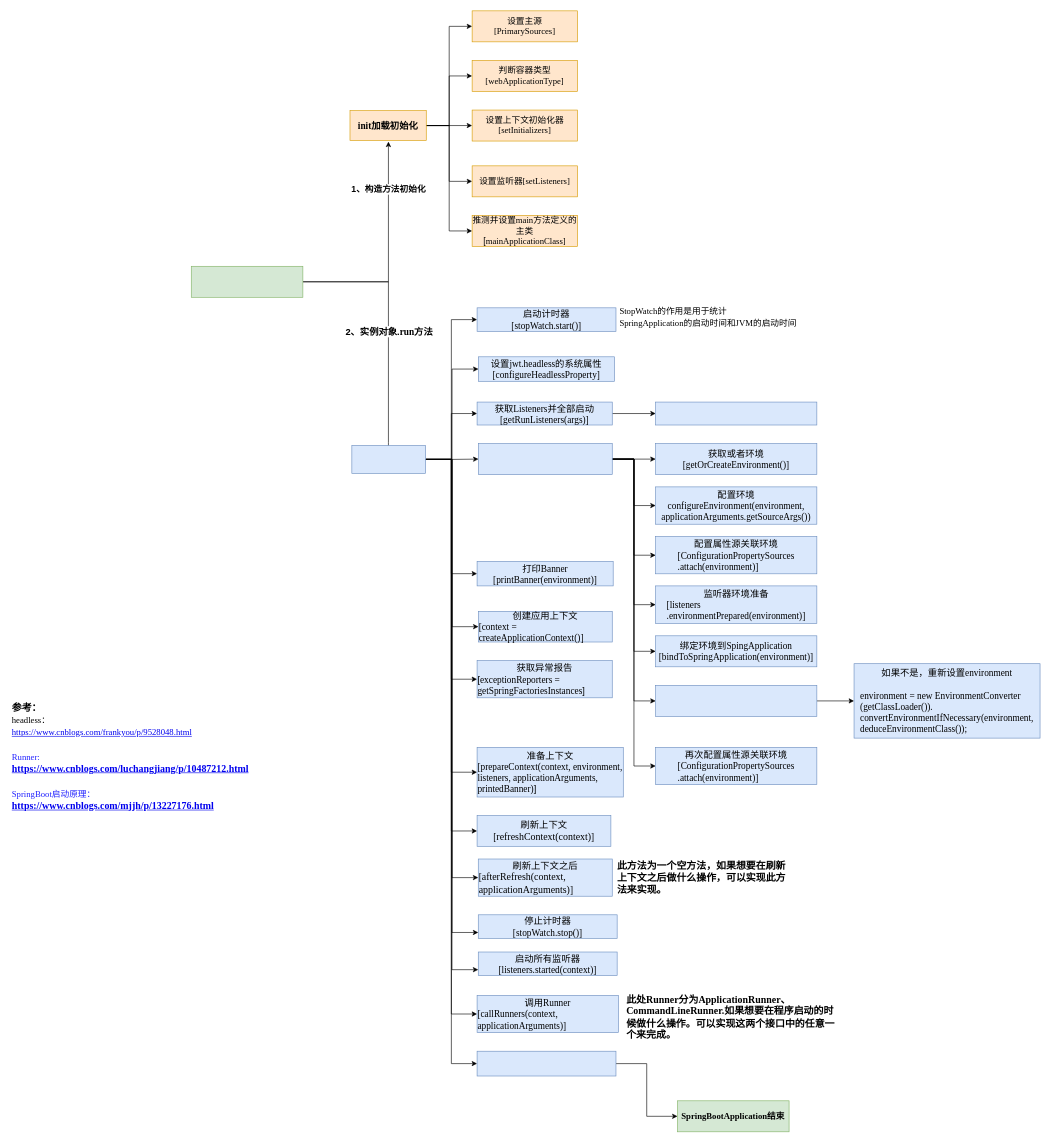
Image size: 1051x1143. Some labels were removed from this diagram. The shapes that lost their labels are listed below. From the top down, each one's centre as x and y in pixels, then its label:
point (247, 281): SpringBootApplication 启动
point (736, 413): 启动所有 Listener [listeners.starting()]
point (388, 459): 执行 run 方法
point (545, 459): 准备环境 [prepareEnvironment(listeners, applicationArguments)]
point (736, 700): 判断是否自定义环境 [ if (!this.isCustomEnvironment)]
point (546, 1063): 运行监听器 [listeners.running(context)]
